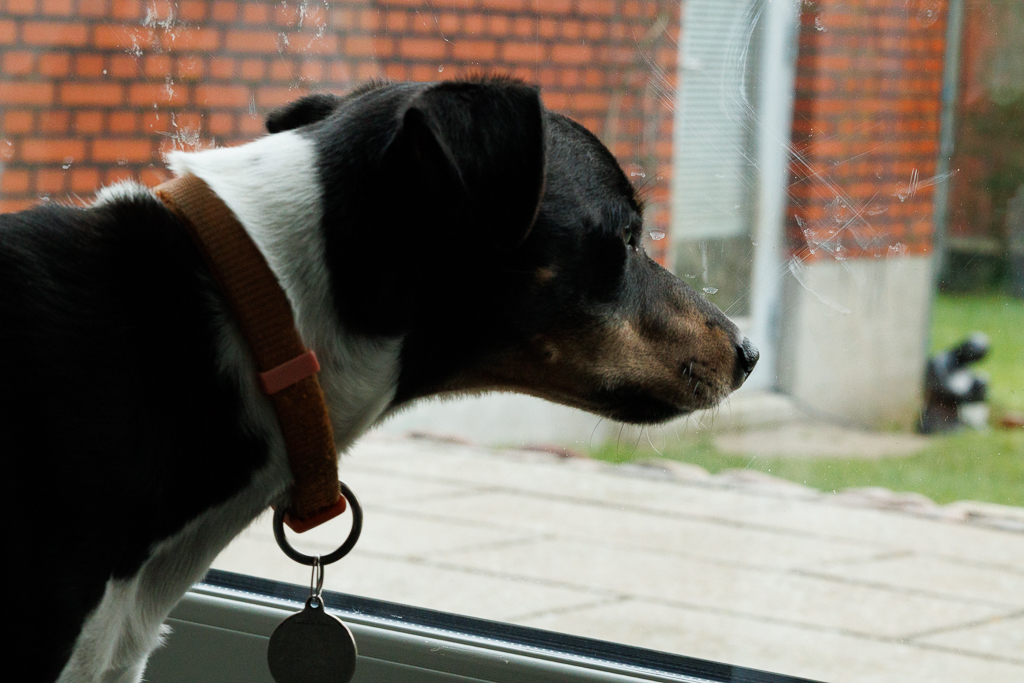Dog: (0, 69, 771, 683)
Humanoid: (912, 329, 996, 439)
